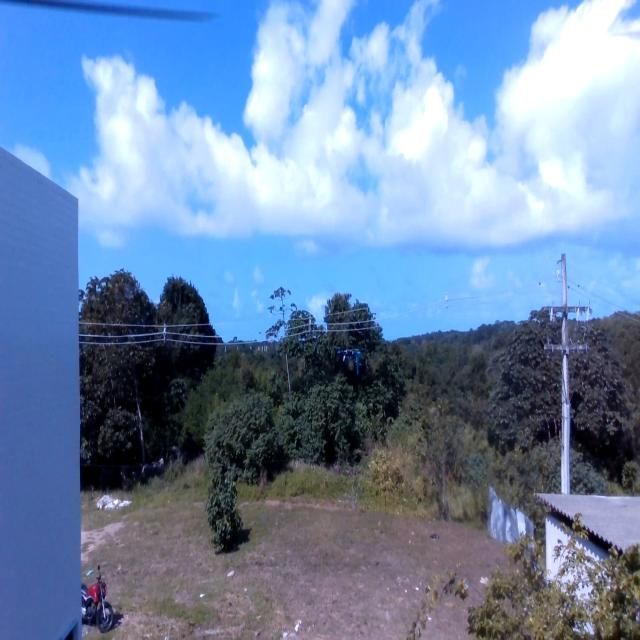-uav-: (332, 333, 371, 384)
